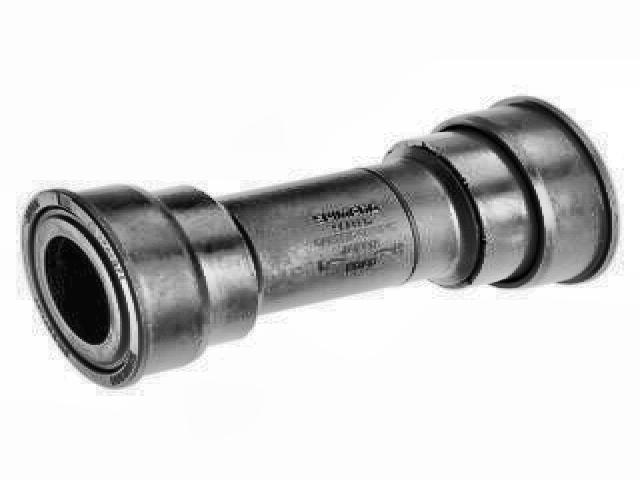bottom_bracket: (15, 92, 622, 391)
